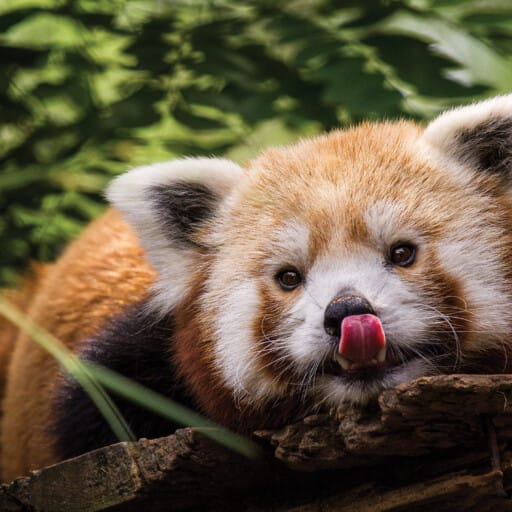Red panda: (112, 93, 511, 404)
